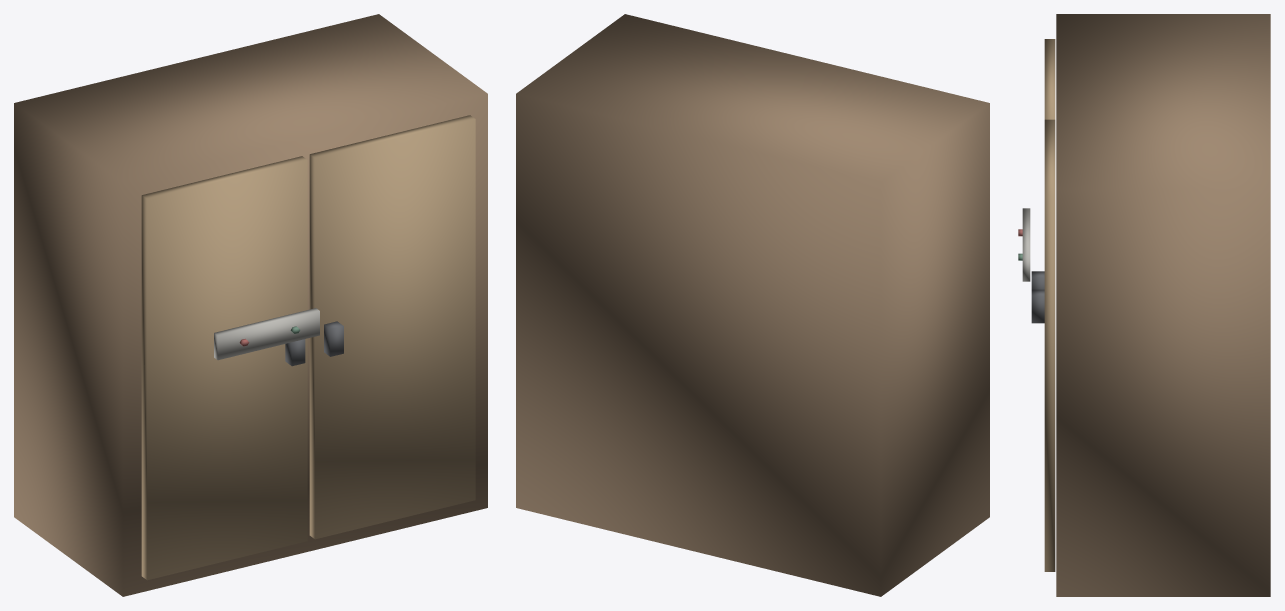
The model's file is typesetter_drawer_cabinet__squat.glb.
3 views of the same model, side by side, from view 1: azimuth 30°, elevation 25°; view 2: azimuth 150°, elevation 25°; view 3: azimuth 270°, elevation 25° (orthographic).
Visible parts, largest first — view 1: world; view 2: world; view 3: world.
Boxes of the visible parts, x1=… form: world: x1=14, y1=14, x2=487, y2=596; world: x1=516, y1=14, x2=989, y2=596; world: x1=1018, y1=14, x2=1270, y2=596.
Bounding box in the file's own units: 1.04 × 1.13 × 0.6356.
